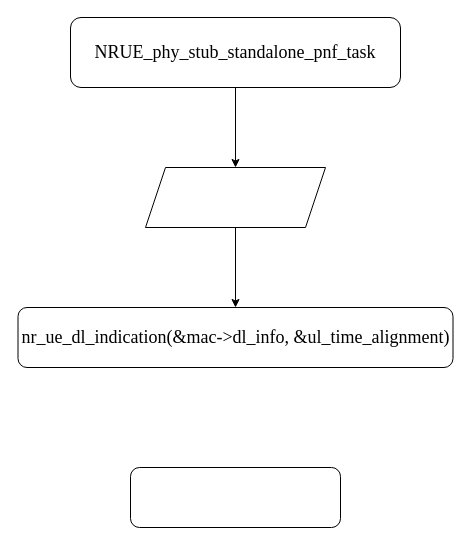
Some shapes in this 470 by 545 pixel diagram are drawn without their labels. Here are the shapes that lost their labels. From the top down, the centre of each, then its label:
At [235,197]: "while(!oai_exit)".
At [235,497]: "handle_bcch_dlsch()".
